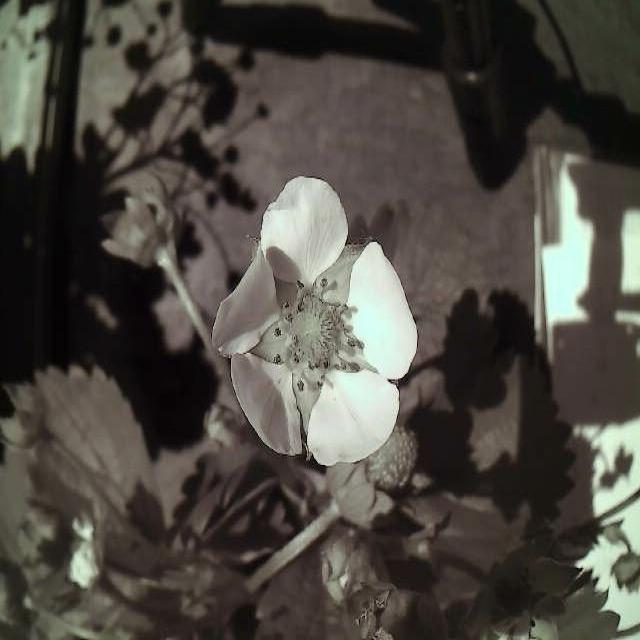flower: (214, 160, 424, 474)
